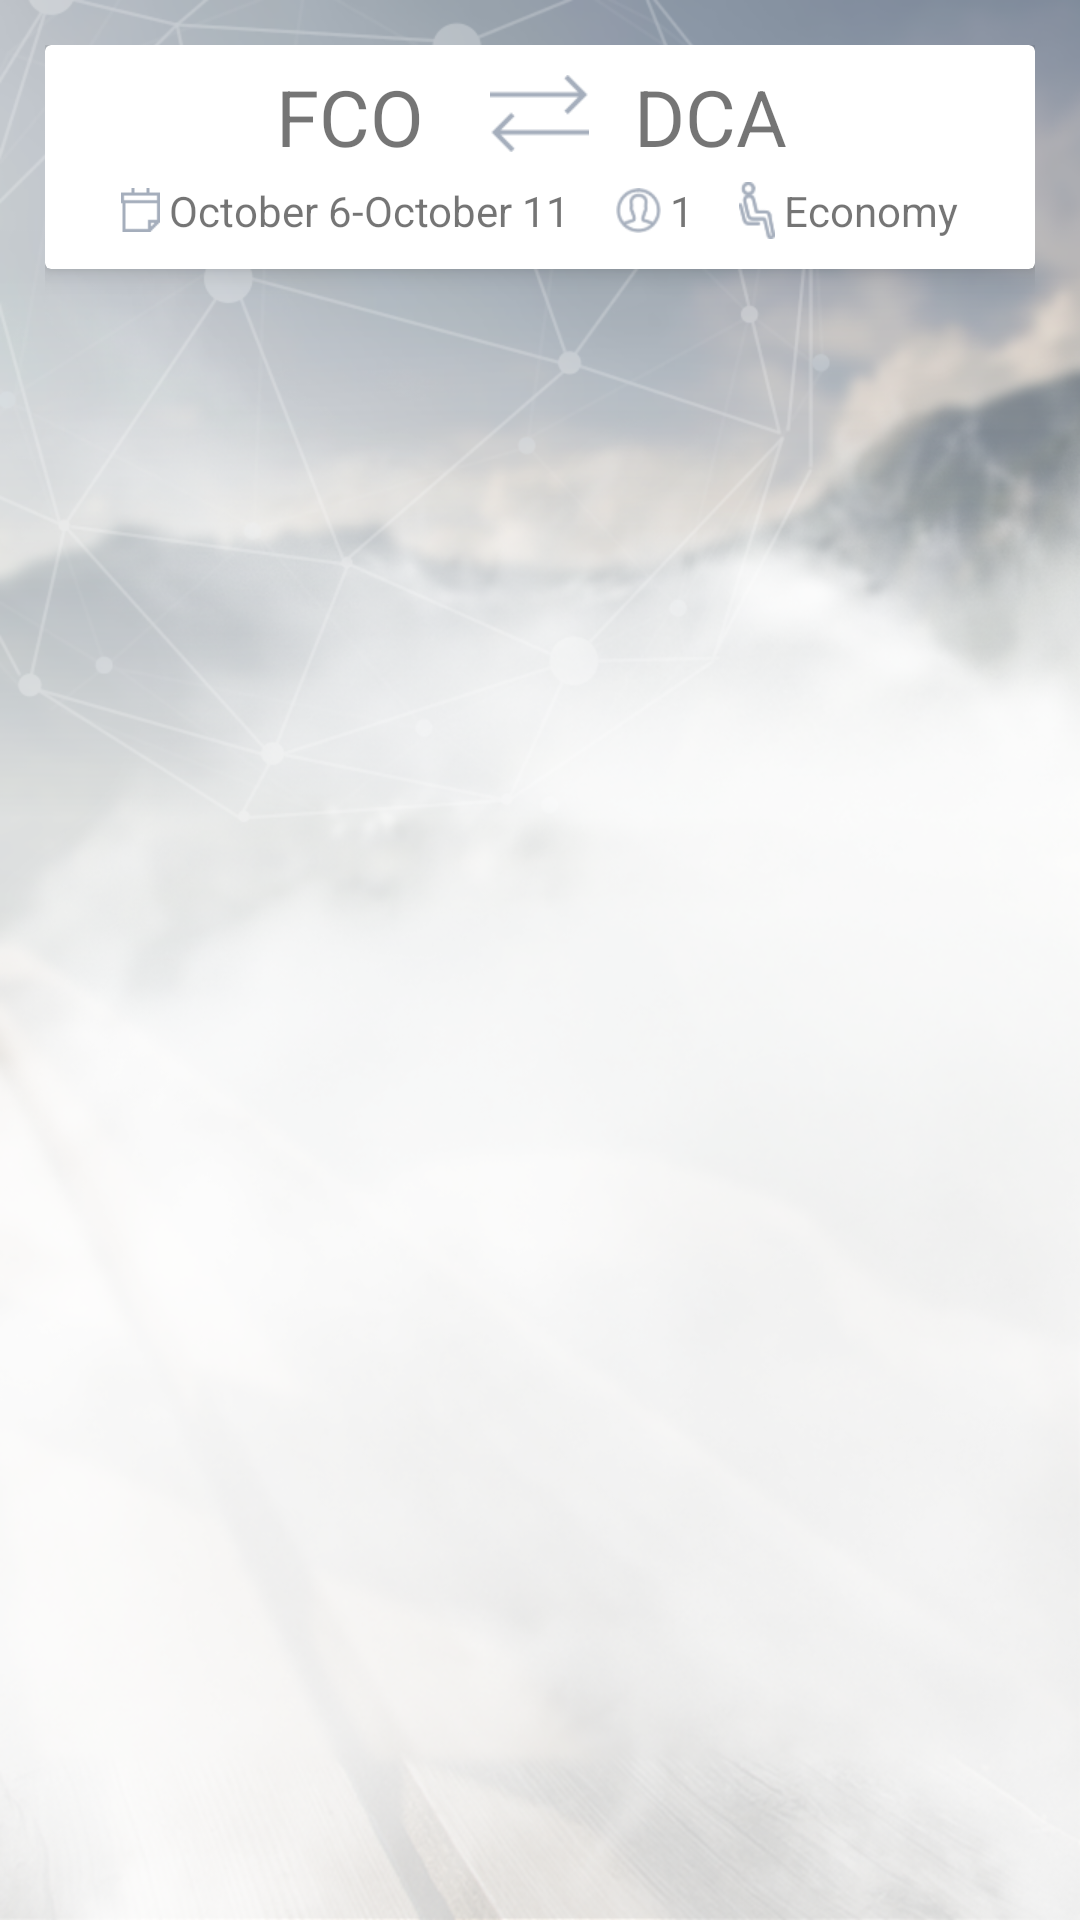

Point at icon controls on the screen. Image size 1080 × 1920, points as [x,y].
arrow: [539,113]
